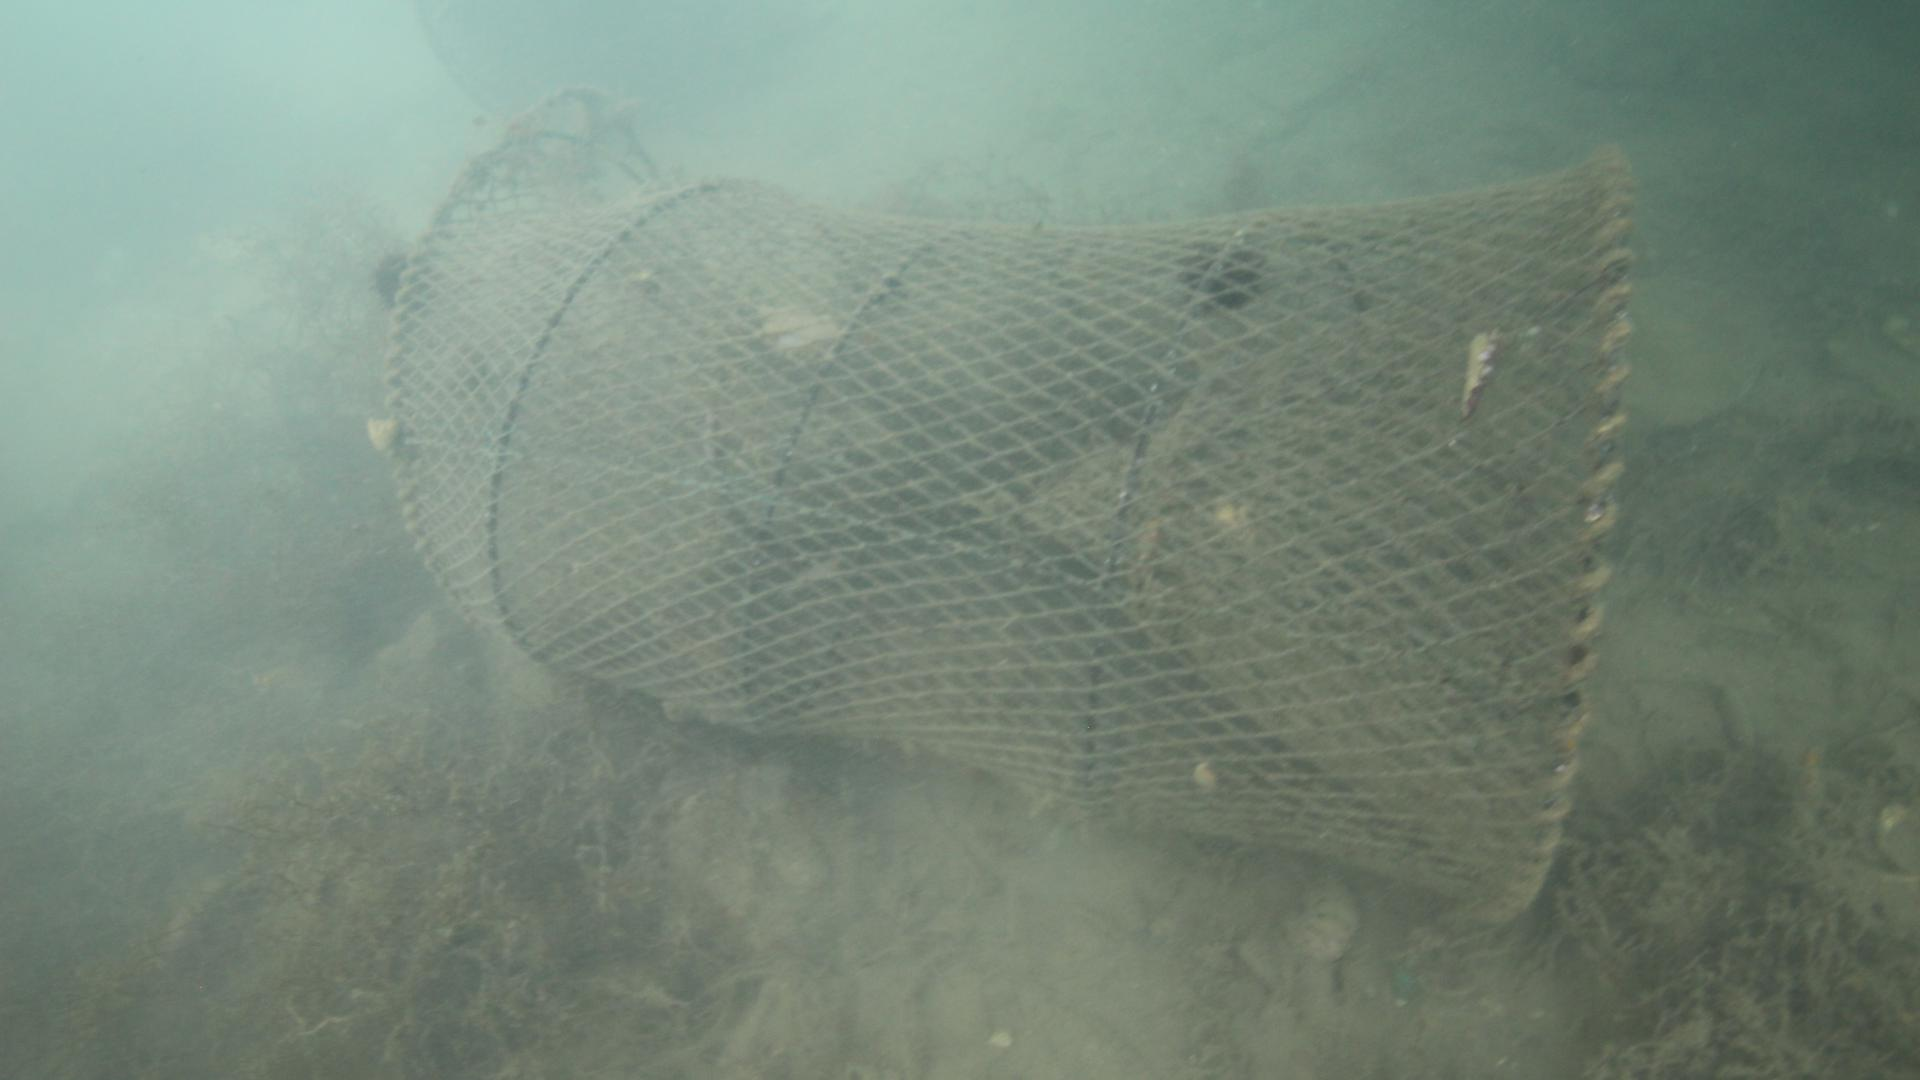spring fish trap: (380, 125, 1639, 932)
